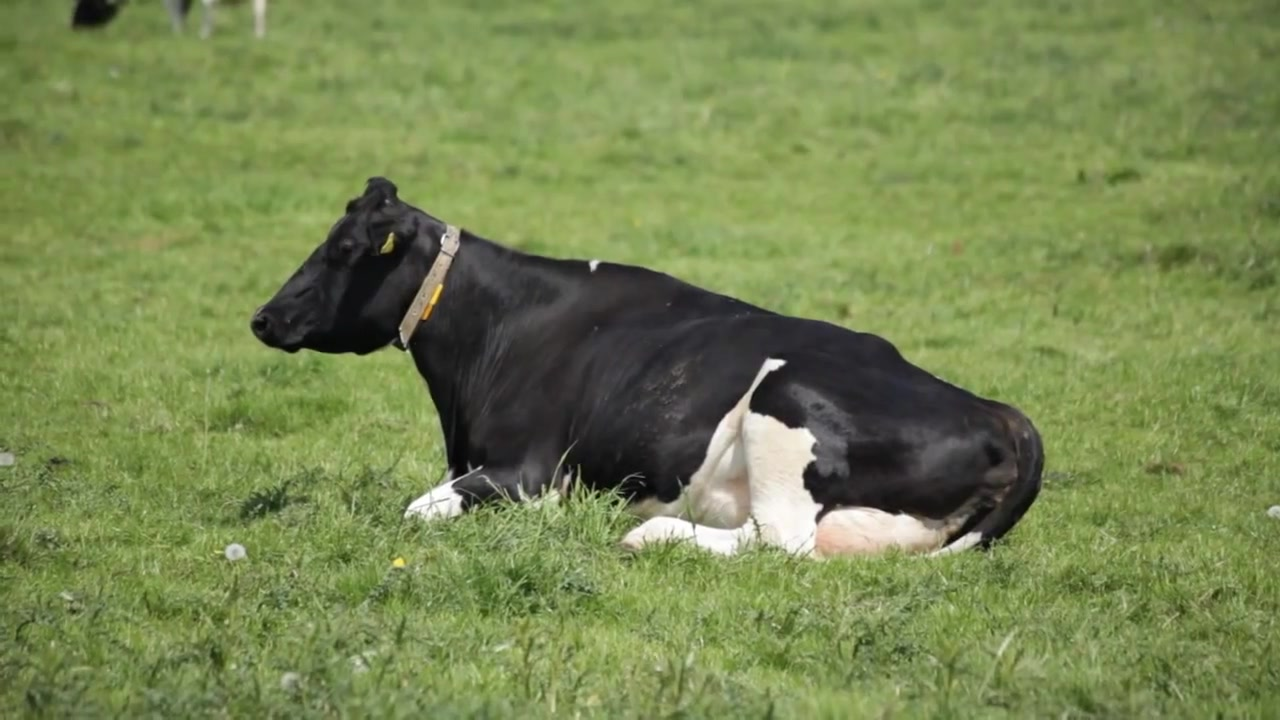cow: (249, 174, 1047, 562)
